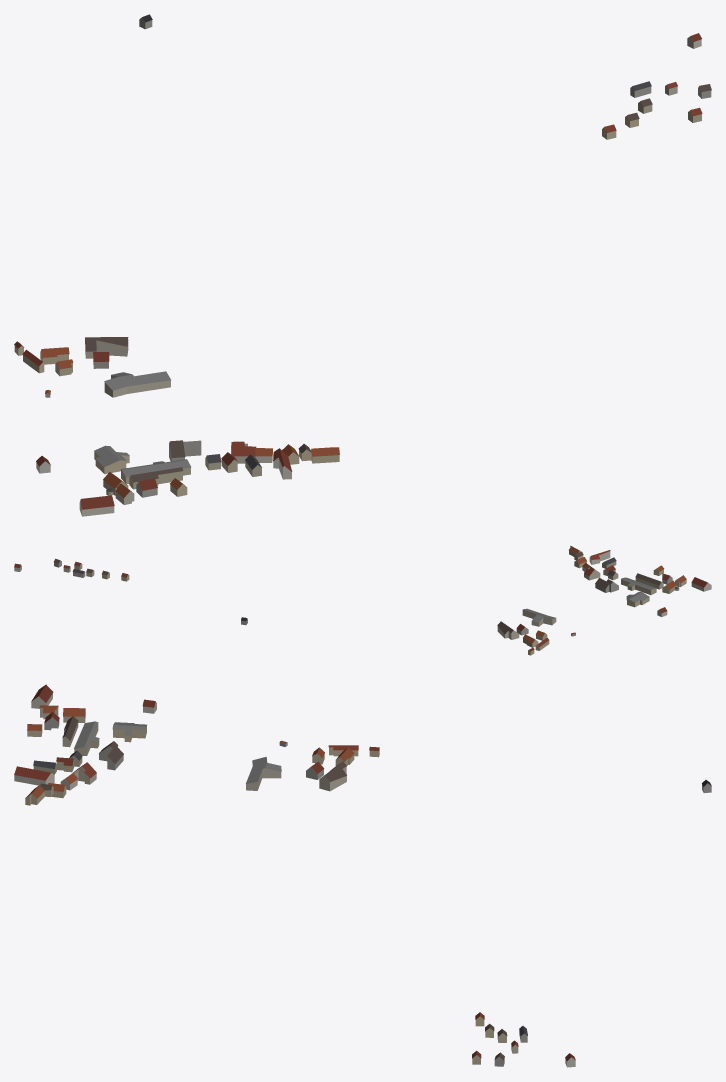
The picture shows the model from 3 angles, top to bottom: view 1: azimuth 30°, elevation 25°; view 2: azimuth 150°, elevation 25°; view 3: azimuth 270°, elevation 25°; orthographic projection. The views are drawn at different scales.
Parts seen in each view (by area): view 1: buildings; view 2: buildings; view 3: buildings.
Boxes of the visible parts, x1,y1,x2,y2 form: buildings: (14, 14, 711, 516); buildings: (14, 545, 711, 655); buildings: (14, 684, 711, 1067).
Bounding box in the file's own units: 793 × 103 × 588.
